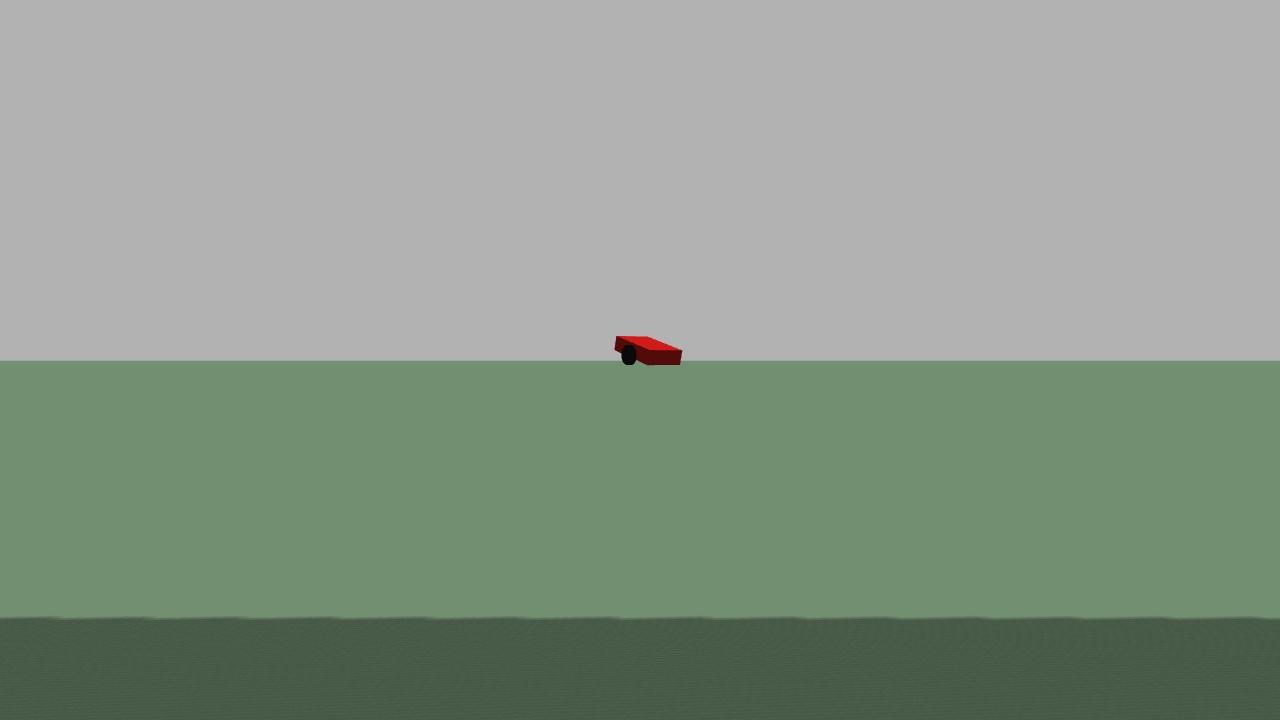ground_vehicle: (609, 324, 687, 377)
